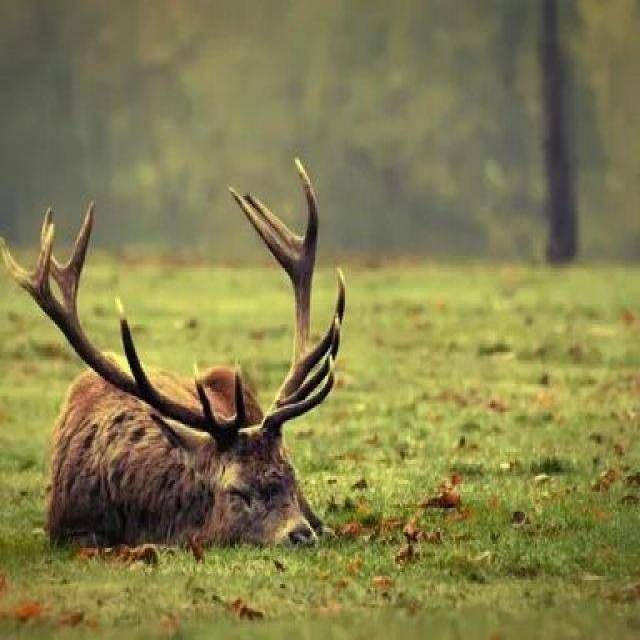deer: (0, 157, 436, 639)
